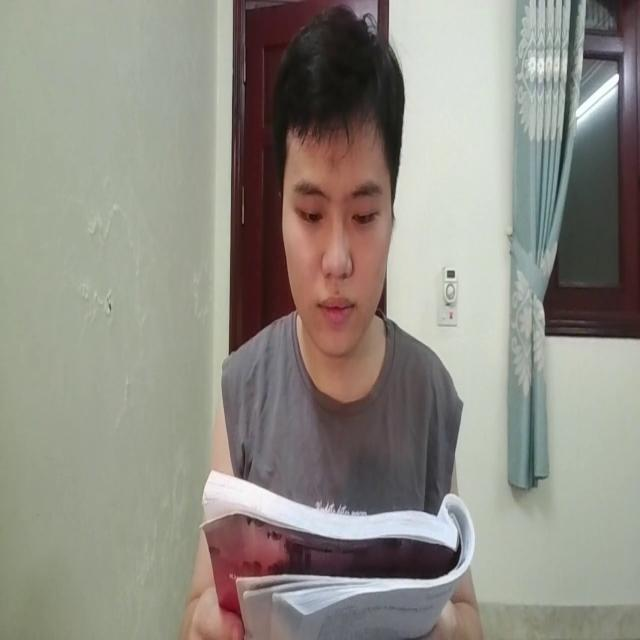book: (186, 448, 474, 640)
student: (183, 3, 478, 640)
